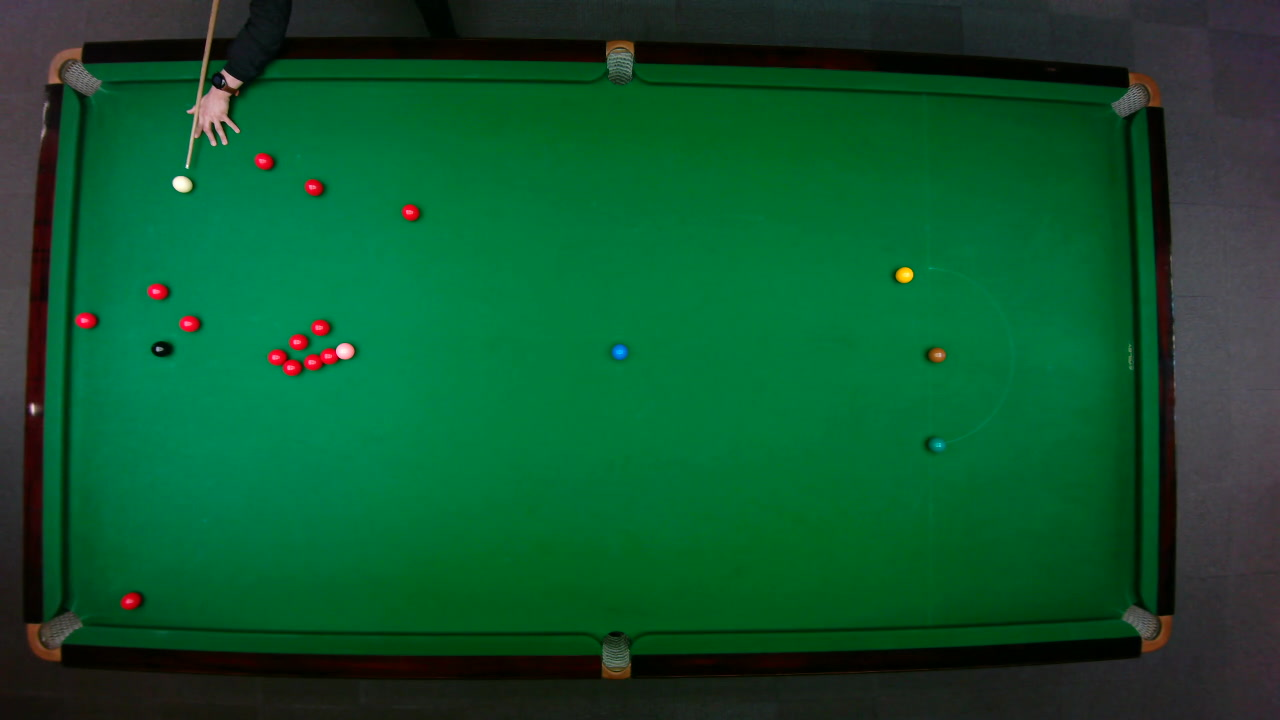bag: (25, 609, 83, 661), (45, 46, 102, 96), (1119, 603, 1171, 652), (1108, 71, 1161, 118), (600, 629, 630, 680), (605, 38, 633, 85)
black: (149, 339, 171, 357)
blue: (610, 342, 628, 360)
brown: (926, 346, 946, 362)
cue: (183, 0, 220, 170)
green: (926, 434, 946, 453)
pink: (334, 341, 355, 360)
red: (118, 590, 142, 610), (145, 281, 169, 300), (73, 310, 97, 328), (302, 177, 324, 196), (177, 314, 200, 332), (253, 151, 274, 170), (265, 347, 287, 365), (400, 202, 420, 221), (281, 358, 302, 376), (309, 317, 330, 335), (287, 332, 308, 350), (302, 352, 323, 370), (319, 346, 337, 365)
white: (170, 174, 193, 192)
yellow: (893, 265, 914, 283)
zone: (926, 266, 1013, 445)
